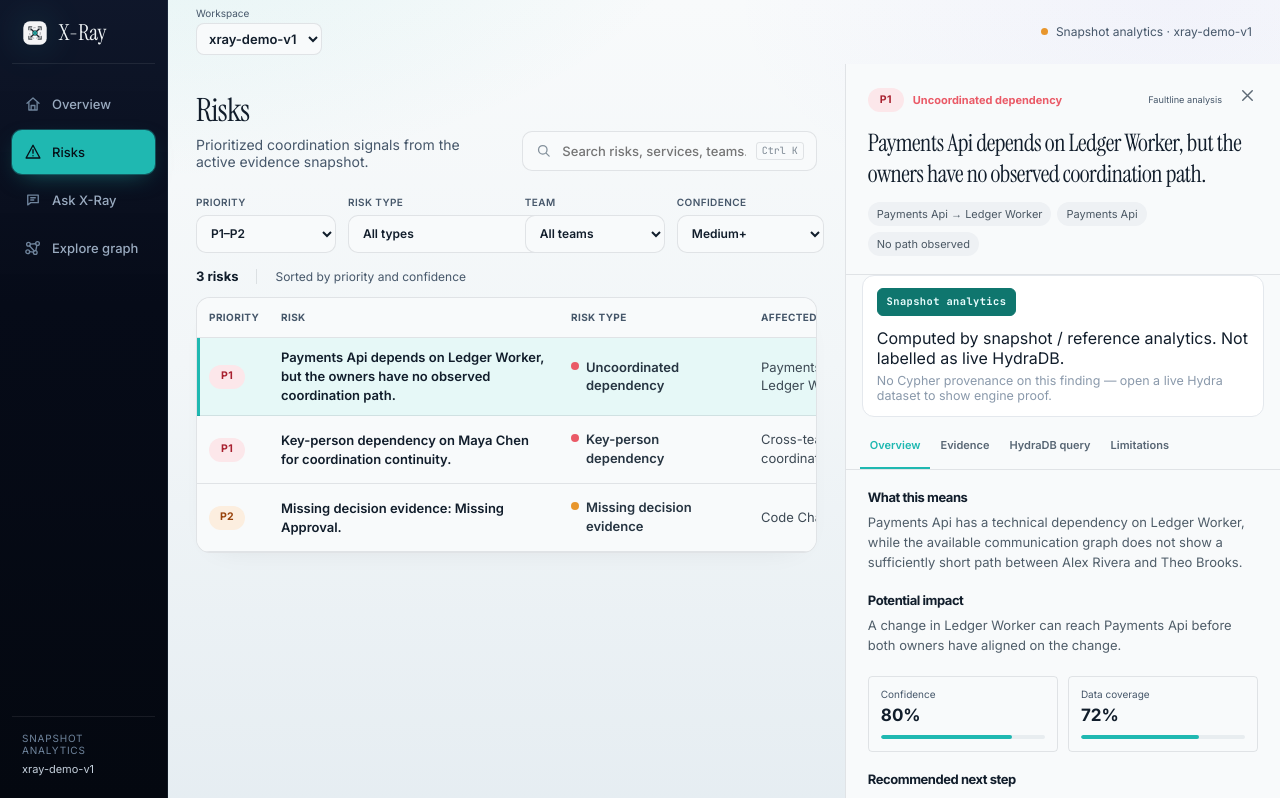
Test: risk filters and search narrow the inbox
Select "All priorities" in the dropdown showing "P1–P2" at (266, 234), box [196, 215, 336, 253]
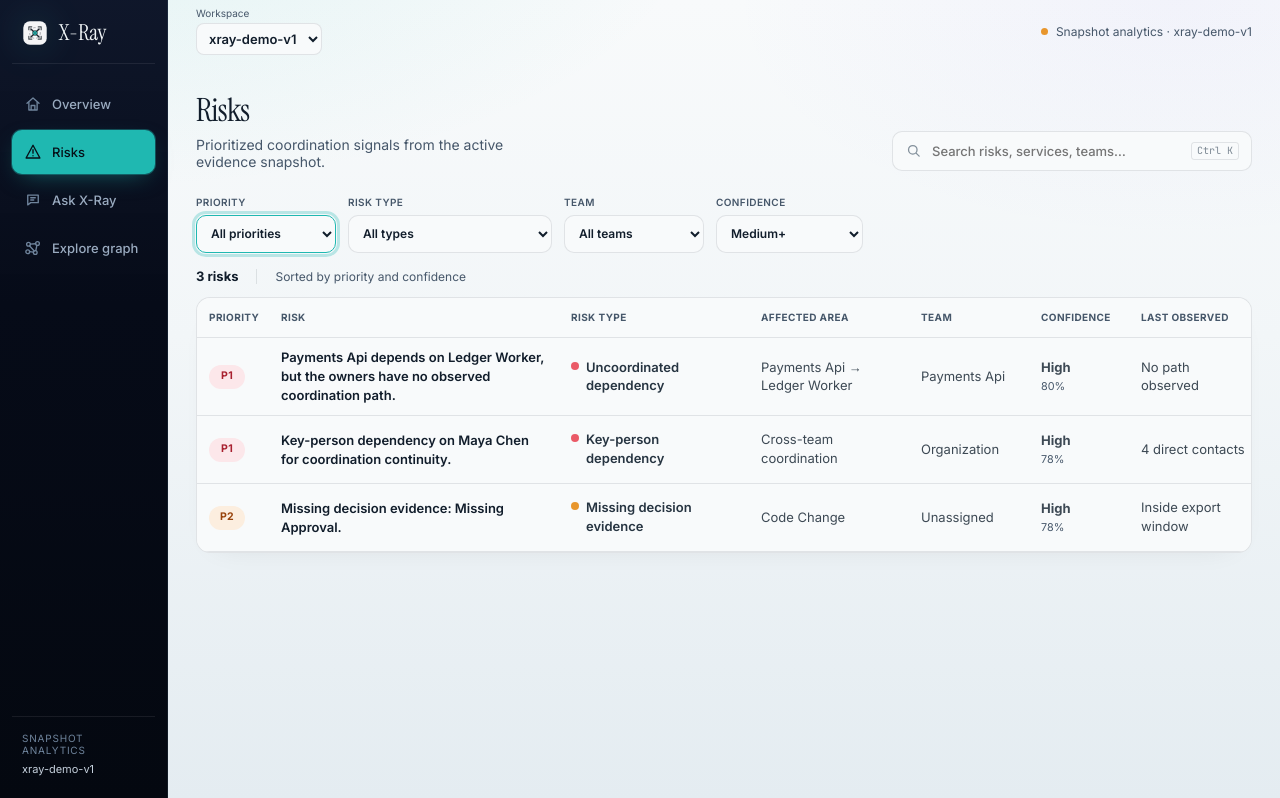
Select "All confidence" in the dropdown showing "Medium+" at (790, 234), box [716, 215, 863, 253]
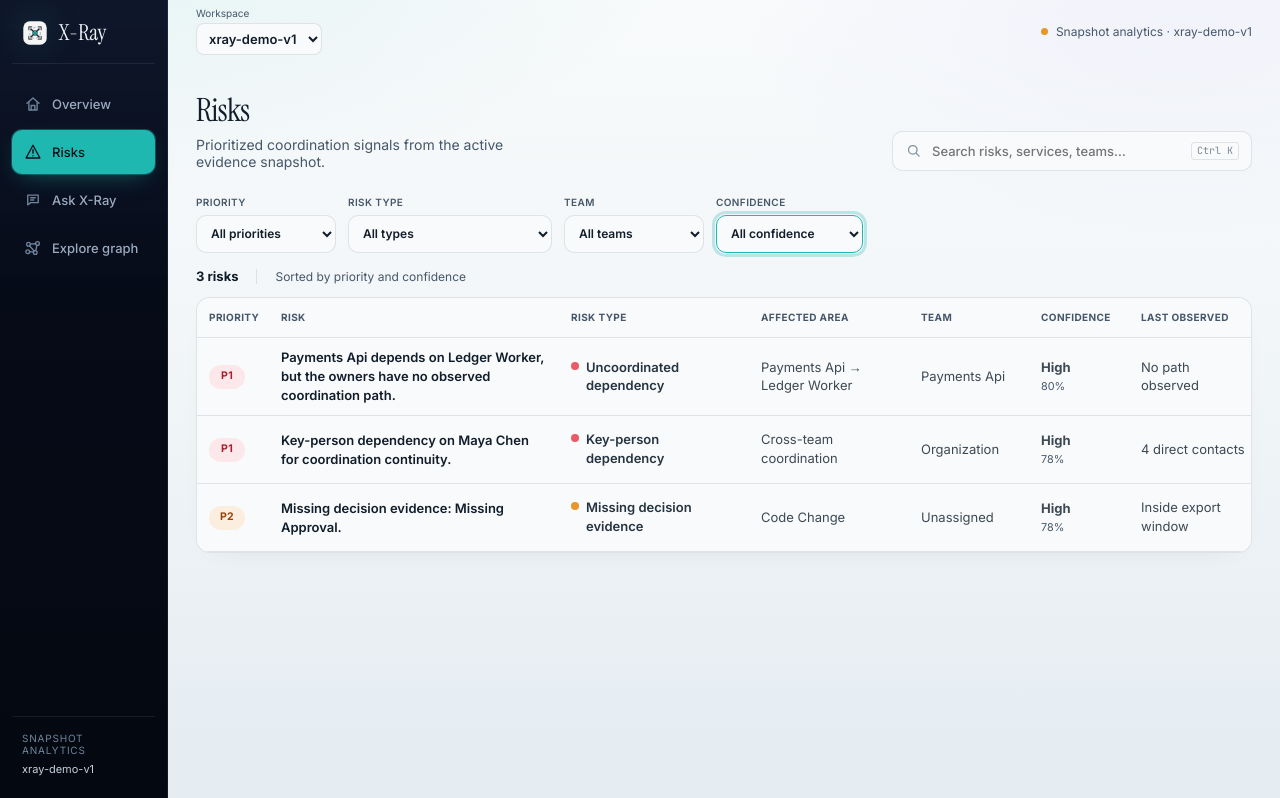
Select "Missing decision evidence" in the dropdown showing "All types" at (450, 234), box [348, 215, 552, 253]
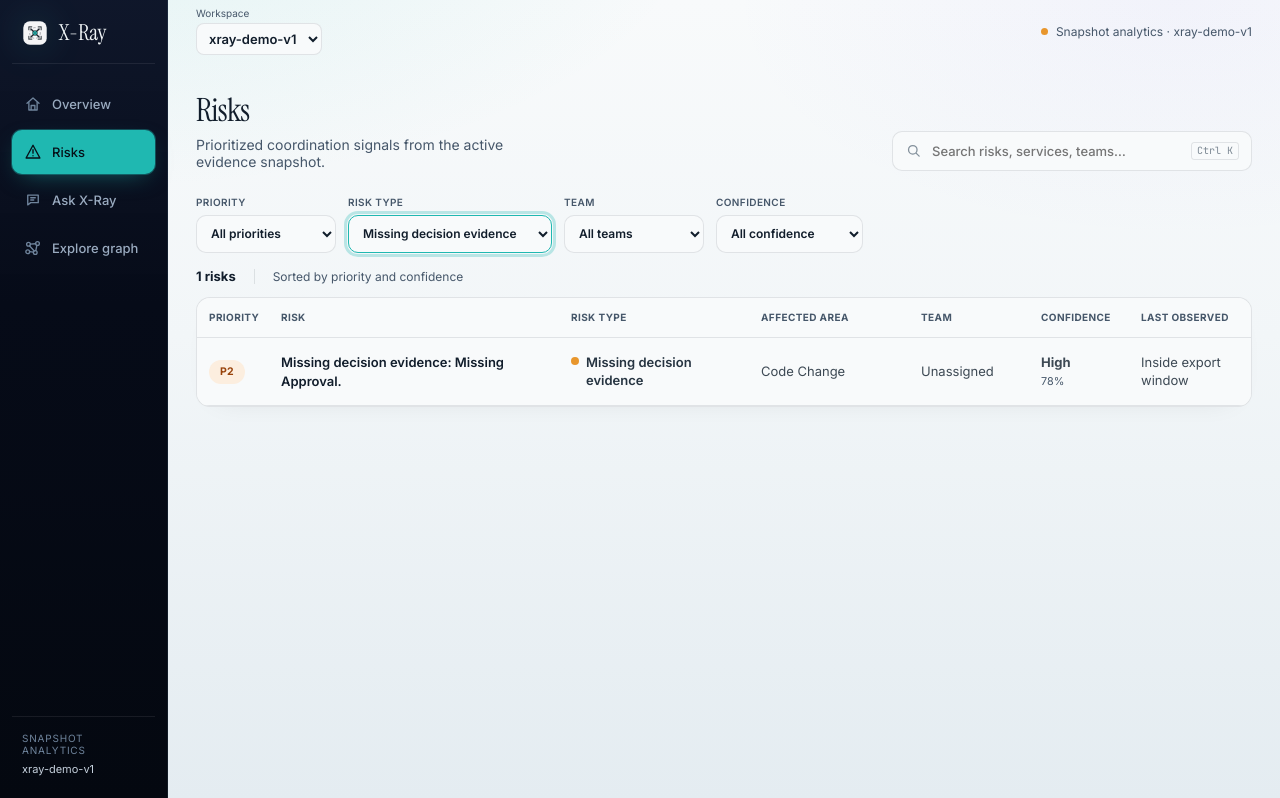
Check: the button "Missing decision evidence: Missing Approval." is shown, box [281, 353, 547, 390]
Check: the button "Payments Api depends on Ledger Worker" is gone
Select "All types" in the dropdown showing "Missing decision evidence" at (450, 234), box [348, 215, 552, 253]
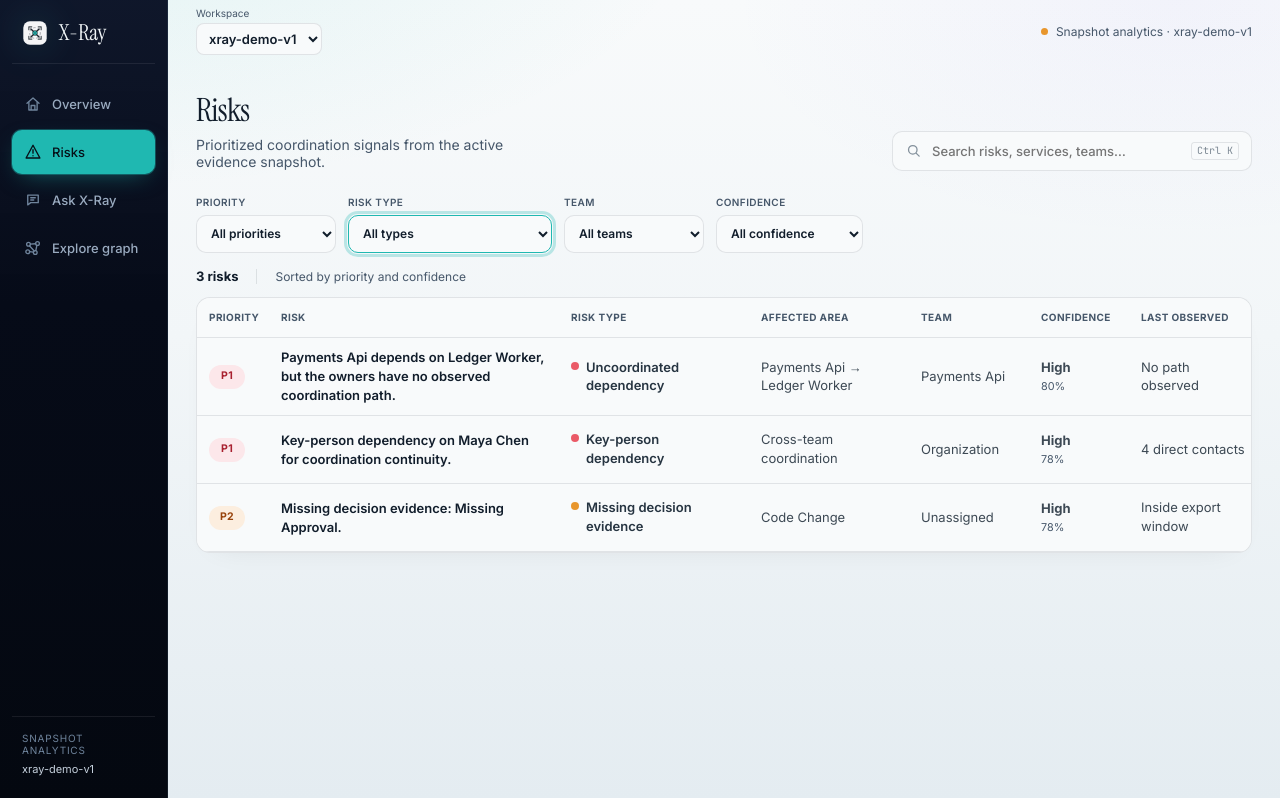
Type "Maya" into the field with placeholder "Search risks, services, teams…" at (1056, 151), box [930, 142, 1183, 160]
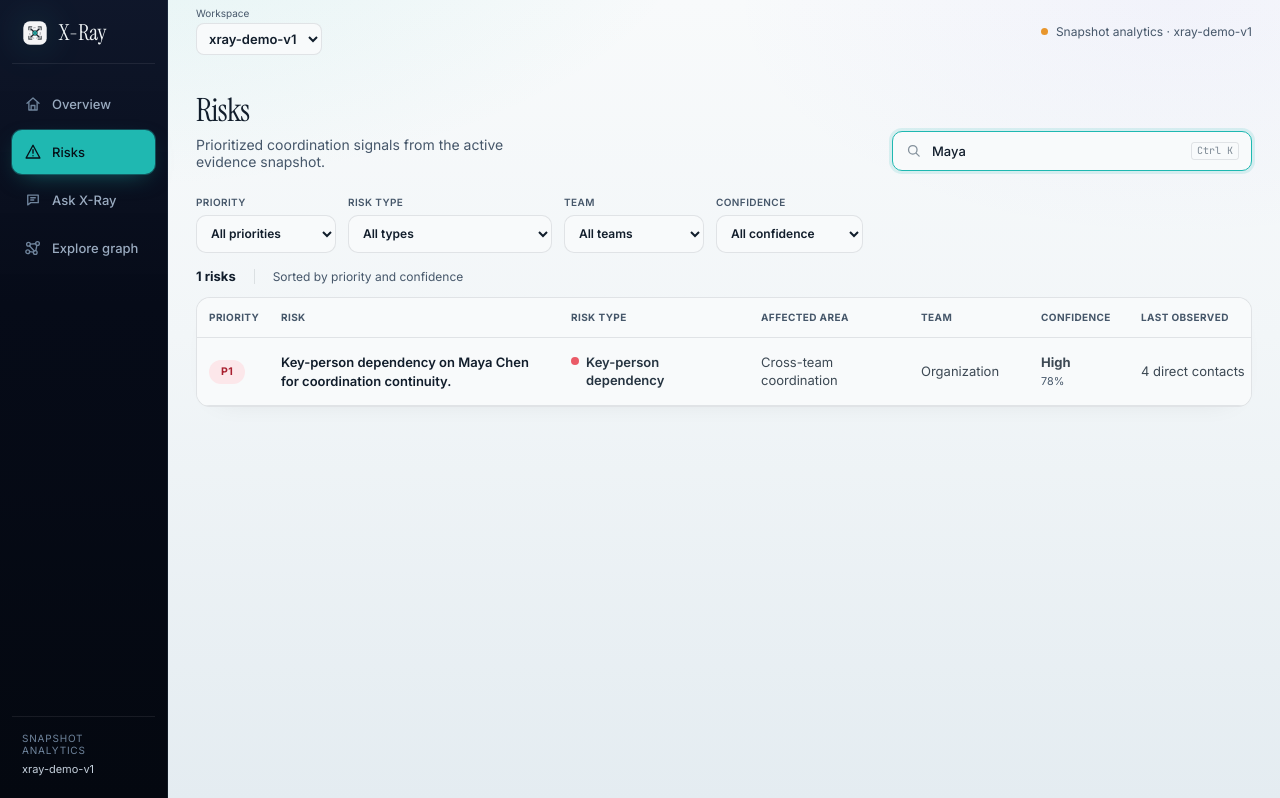
Check: the button "Maya Chen" is shown, box [281, 353, 547, 390]
Check: the button "Missing Approval" is gone
